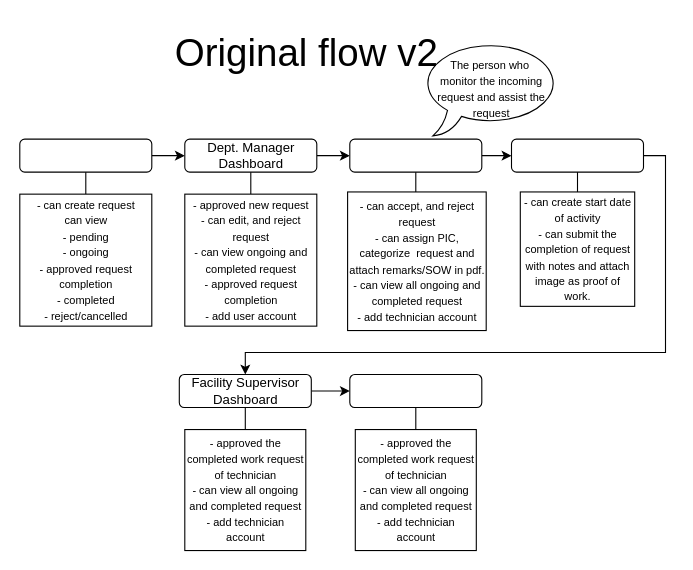
Some shapes in this 693 by 570 pixel diagram are drawn without their labels. The shapes that lost their labels are listed below. From the top down, each one's centre as x and y in pixels, then its label:
At pixel 85 155: "User Dashboard".
At pixel 415 155: "Facility clerk or staff Dashboard".
At pixel 577 155: "Technician Dashboard".
At pixel 415 390: "Facility Manager Dashboard".
